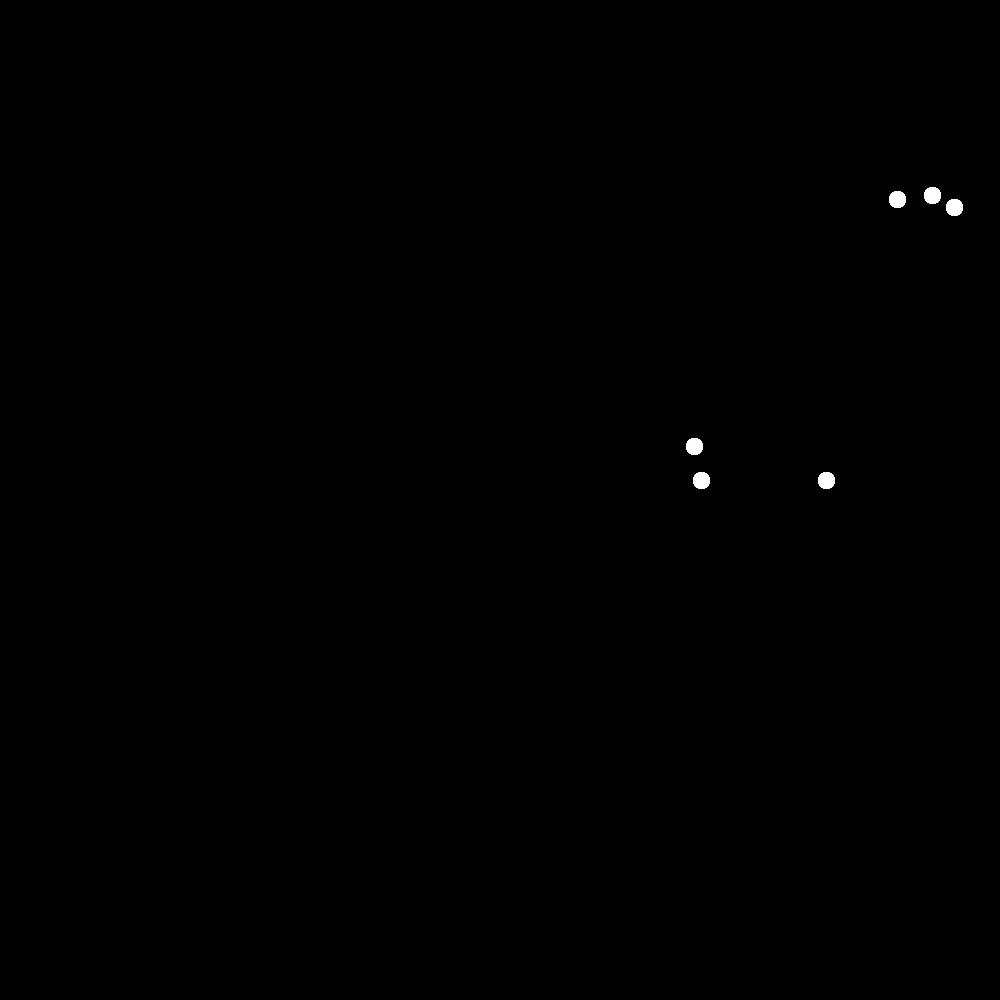illegal: (748, 394, 772, 419), (819, 469, 841, 494)
